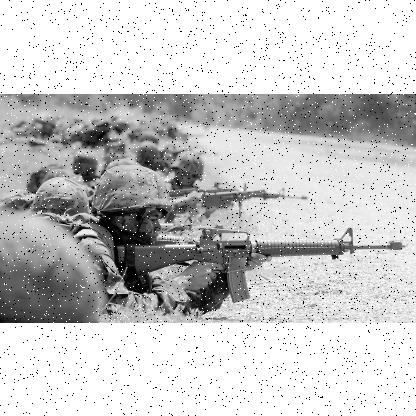gun: (116, 228, 406, 300), (166, 179, 308, 217)
